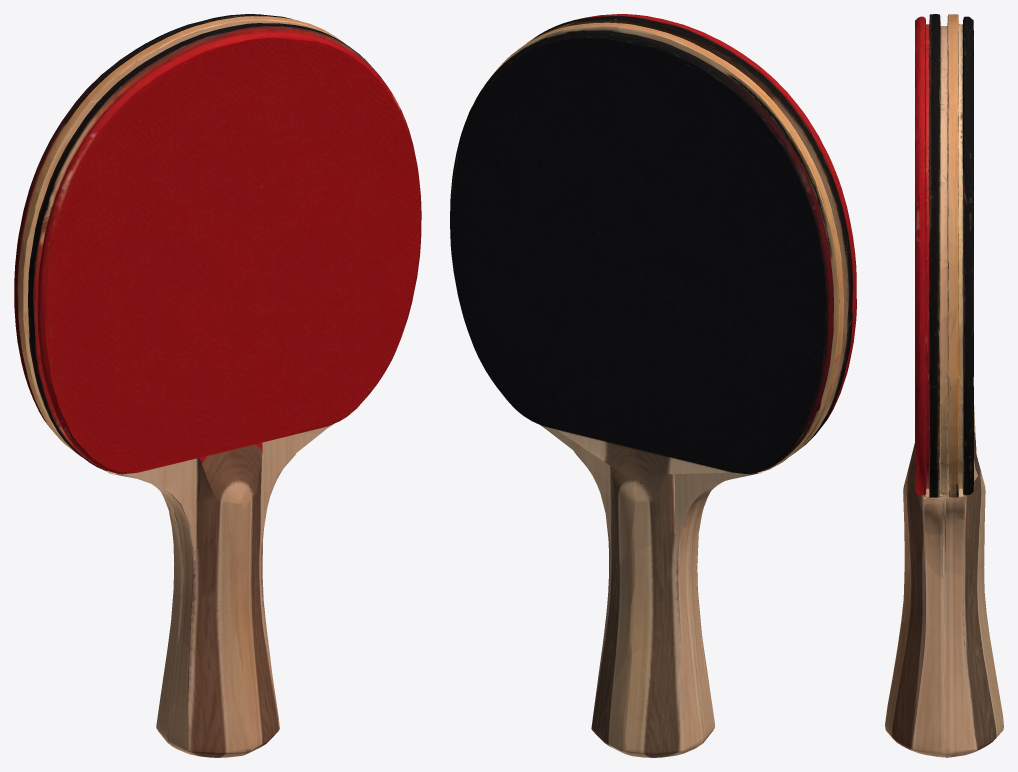
The model's file is racket-quality.glb.
The picture shows the model from 3 angles, left to right: view 1: azimuth 30°, elevation 25°; view 2: azimuth 150°, elevation 25°; view 3: azimuth 270°, elevation 25°; orthographic projection.
Parts seen in each view (by area): view 1: output_unwrapped; view 2: output_unwrapped; view 3: output_unwrapped.
Boxes of the visible parts, <box> form: output_unwrapped: <box>14,14,421,757</box>; output_unwrapped: <box>450,14,856,757</box>; output_unwrapped: <box>885,14,1003,757</box>.
Size of the model in its own units: 1.07 by 1.9 by 0.2913.
Materials: 1 (1 with a texture image).
